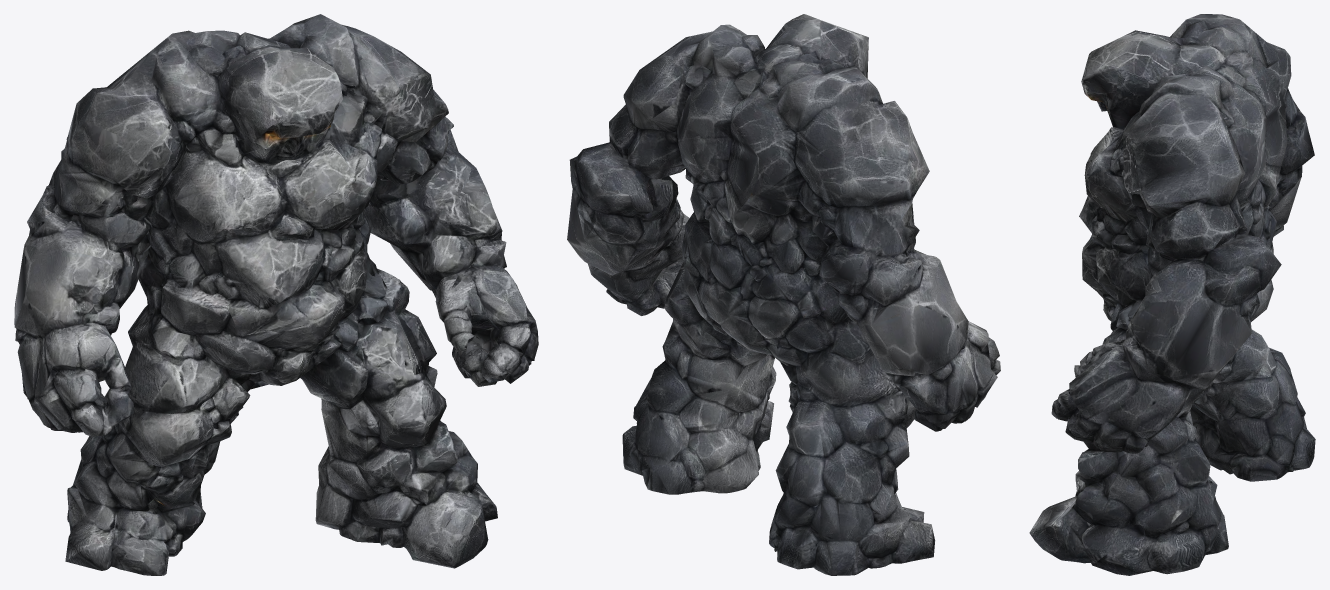
File: Golem.glb
3 views of the same model, side by side, from view 1: azimuth 30°, elevation 25°; view 2: azimuth 150°, elevation 25°; view 3: azimuth 270°, elevation 25° (orthographic). The views are drawn at different scales.
Size of the model in its own units: 1.78 by 1.9 by 1.08.
1 material, 1 textured.
